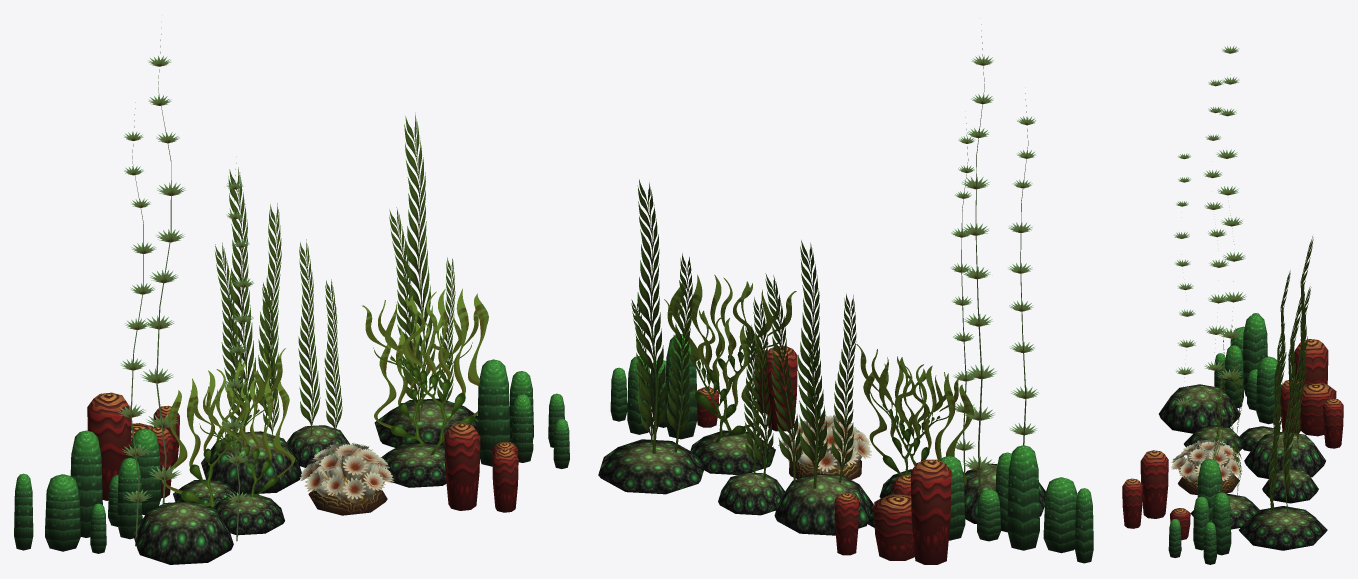
The model's file is CoralSet_15.FBX.
3 views of the same model, side by side, from view 1: azimuth 30°, elevation 25°; view 2: azimuth 150°, elevation 25°; view 3: azimuth 270°, elevation 25° (orthographic). The views are drawn at different scales.
Visible parts, largest first — view 1: Set_15_Part26, Set_15_Part33, Set_15_Part29, Set_15_Part23, Set_15, Set_15_Part21, Set_15_Part32, Set_15_Part036, Set_15_Part15, Set_15_Part07, Set_15_Part03, Set_15_Part34 (+19 smaller); view 2: Set_15_Part26, Set_15_Part10, Set_15_Part32, Set_15_Part33, Set_15_Part07, Set_15_Part21, Set_15_Part14, Set_15_Part036, Set_15_Part23, Set_15_Part035, Set_15_Part13, Set_15_Part34 (+16 smaller); view 3: Set_15_Part26, Set_15_Part33, Set_15_Part10, Set_15_Part29, Set_15_Part21, Set_15, Set_15_Part03, Set_15_Part08, Set_15_Part34, Set_15_Part20, Set_15_Part32, Set_15_Part07 (+17 smaller).
Boxes of the visible parts, x1=… form: Set_15_Part26: x1=14, y1=428, x2=161, y2=553; Set_15_Part33: x1=477, y1=359, x2=569, y2=468; Set_15_Part29: x1=133, y1=501, x2=233, y2=564; Set_15_Part23: x1=362, y1=288, x2=488, y2=455; Set_15: x1=299, y1=442, x2=393, y2=502; Set_15_Part21: x1=201, y1=431, x2=301, y2=493; Set_15_Part32: x1=403, y1=112, x2=435, y2=408; Set_15_Part036: x1=161, y1=348, x2=285, y2=507; Set_15_Part15: x1=190, y1=377, x2=294, y2=497; Set_15_Part07: x1=87, y1=392, x2=131, y2=500; Set_15_Part03: x1=444, y1=423, x2=480, y2=510; Set_15_Part34: x1=140, y1=28, x2=185, y2=503; Set_15_Part26: x1=939, y1=445, x2=1093, y2=563; Set_15_Part10: x1=598, y1=439, x2=704, y2=494; Set_15_Part32: x1=635, y1=179, x2=668, y2=453; Set_15_Part33: x1=610, y1=334, x2=697, y2=439; Set_15_Part07: x1=910, y1=459, x2=951, y2=564; Set_15_Part21: x1=774, y1=473, x2=873, y2=535; Set_15_Part14: x1=797, y1=240, x2=827, y2=488; Set_15_Part036: x1=856, y1=344, x2=973, y2=485; Set_15_Part23: x1=670, y1=274, x2=796, y2=432; Set_15_Part035: x1=664, y1=299, x2=765, y2=442; Set_15_Part13: x1=765, y1=273, x2=801, y2=487; Set_15_Part34: x1=961, y1=24, x2=996, y2=494; Set_15_Part26: x1=1214, y1=313, x2=1280, y2=424; Set_15_Part33: x1=1168, y1=459, x2=1231, y2=564; Set_15_Part10: x1=1239, y1=506, x2=1327, y2=550; Set_15_Part29: x1=1159, y1=384, x2=1240, y2=433; Set_15_Part21: x1=1244, y1=431, x2=1325, y2=478; Set_15: x1=1171, y1=440, x2=1242, y2=483; Set_15_Part03: x1=1140, y1=450, x2=1168, y2=518; Set_15_Part08: x1=1300, y1=382, x2=1336, y2=436; Set_15_Part34: x1=1216, y1=46, x2=1246, y2=379; Set_15_Part20: x1=1262, y1=468, x2=1318, y2=503; Set_15_Part32: x1=1282, y1=287, x2=1304, y2=513; Set_15_Part07: x1=1294, y1=339, x2=1328, y2=384.
Size of the model in its own units: 79.35 by 75.61 by 37.3.
